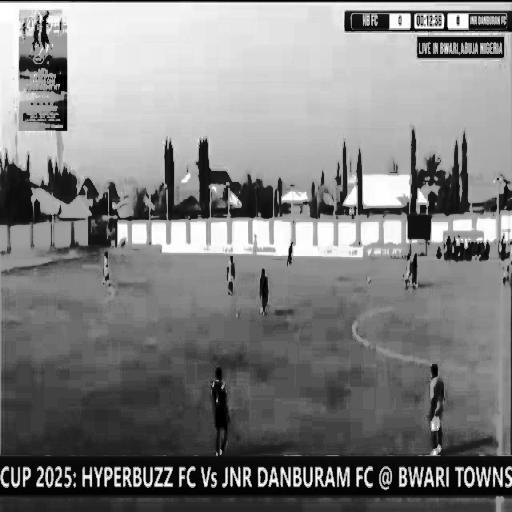ball: (366, 274, 374, 286)
keeper2: (98, 251, 112, 292)
team1: (429, 364, 447, 458), (224, 255, 238, 296), (500, 256, 512, 295), (404, 252, 411, 286)
team2: (205, 356, 234, 458), (256, 267, 270, 316), (286, 236, 294, 269), (413, 252, 418, 286)
